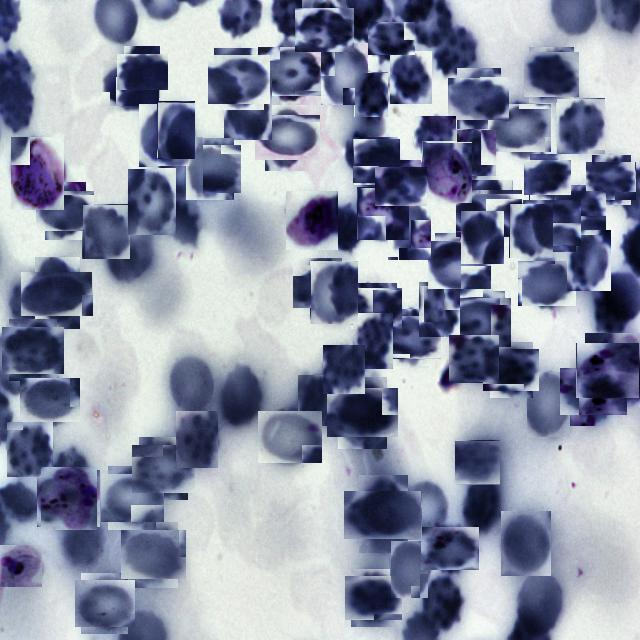gametocyte: (10, 136, 64, 210)
red blood cell: (352, 482, 416, 546), (332, 383, 393, 443), (260, 408, 320, 467), (515, 569, 567, 635), (28, 264, 87, 322), (262, 42, 320, 100), (124, 526, 182, 584), (460, 184, 518, 242), (565, 363, 622, 421), (217, 363, 265, 431), (501, 511, 551, 576), (399, 476, 449, 541), (128, 169, 176, 235), (139, 104, 189, 167), (260, 110, 316, 166), (452, 294, 508, 350), (492, 100, 548, 156), (431, 237, 487, 293), (211, 51, 267, 107), (224, 75, 272, 140), (5, 322, 60, 378), (104, 471, 160, 526), (136, 441, 192, 496), (182, 142, 238, 196), (310, 261, 358, 324), (77, 576, 132, 630), (321, 42, 368, 105), (157, 132, 203, 196), (167, 354, 214, 416), (527, 372, 570, 437), (24, 374, 76, 427), (453, 72, 505, 125), (556, 98, 605, 154), (107, 228, 156, 284), (420, 574, 466, 633), (521, 257, 573, 309), (104, 57, 156, 109), (526, 197, 578, 249), (424, 522, 476, 574), (298, 4, 350, 56), (567, 230, 611, 291), (388, 199, 432, 260), (348, 572, 399, 624), (82, 204, 130, 259), (6, 422, 53, 478), (526, 50, 577, 100), (434, 23, 480, 78), (40, 186, 90, 236), (388, 312, 438, 362), (296, 262, 346, 312), (509, 203, 553, 258), (449, 333, 498, 382), (486, 346, 536, 394), (176, 411, 218, 468), (460, 210, 504, 264), (418, 281, 460, 337), (353, 313, 393, 369), (390, 51, 432, 104), (390, 540, 428, 598), (157, 102, 195, 160), (462, 480, 502, 534), (353, 138, 399, 184), (378, 163, 424, 209), (354, 286, 399, 332), (323, 345, 365, 394), (558, 188, 604, 232), (590, 158, 634, 202), (456, 440, 500, 484), (120, 50, 164, 94), (414, 116, 456, 162), (456, 129, 496, 176), (298, 375, 334, 426), (527, 156, 569, 198), (372, 18, 412, 58), (354, 72, 388, 117)
trophozoite: (580, 338, 640, 402), (38, 468, 98, 528), (422, 142, 472, 204), (286, 191, 338, 250), (357, 187, 409, 240), (0, 545, 42, 587)
